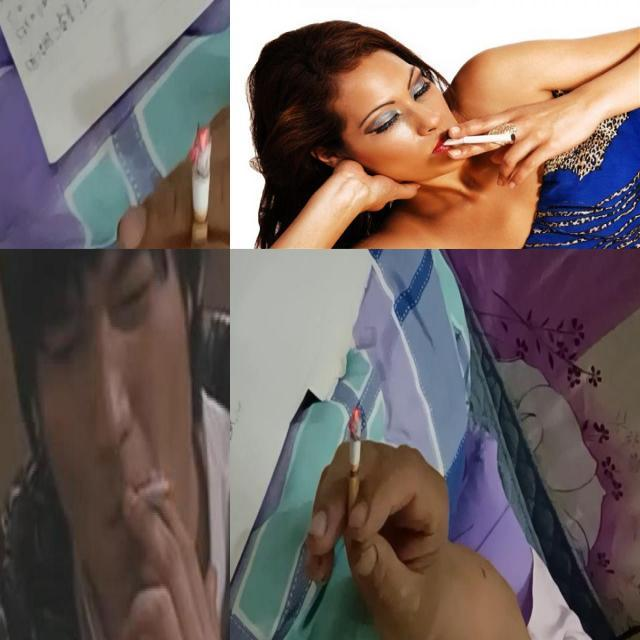cigarette: (128, 464, 182, 522), (191, 122, 213, 248), (346, 404, 364, 536), (442, 132, 516, 144)
